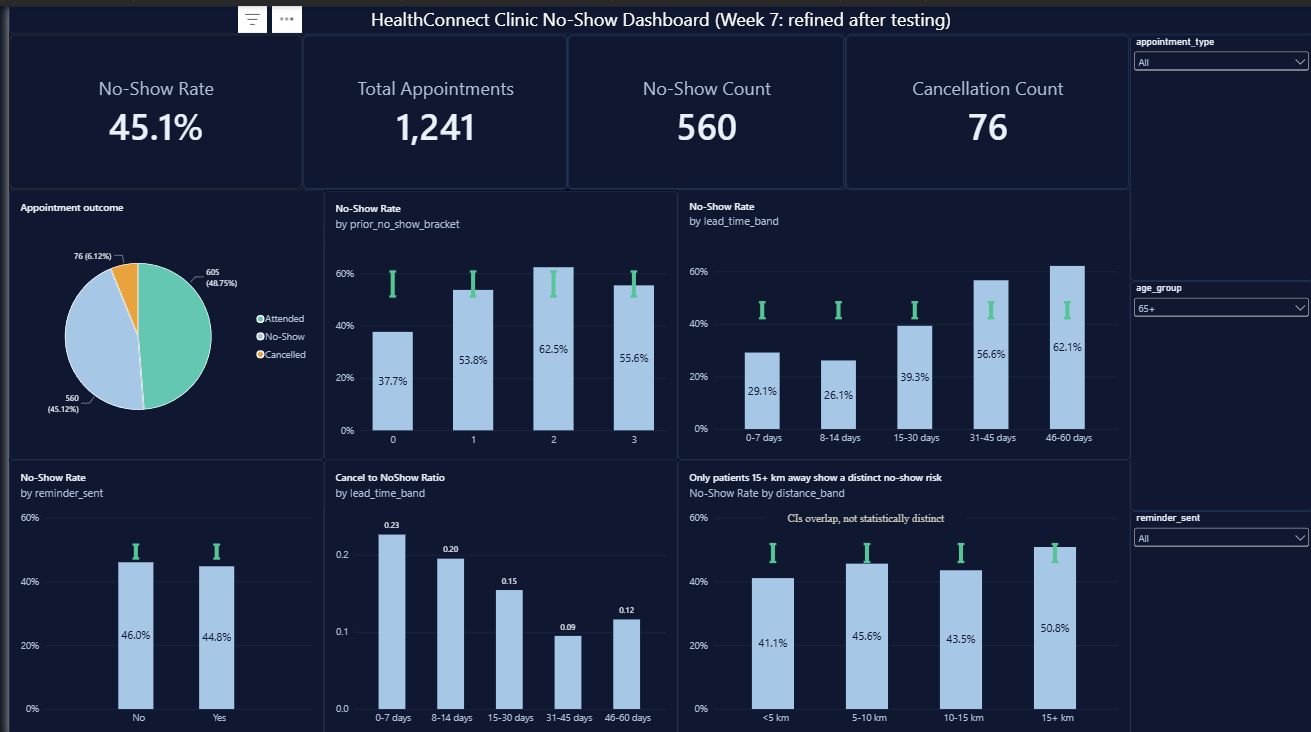

The page's visual inventory and layout, read from the dashboard file:
{"tool":"powerbi","page":{"name":"Page 1","canvas":[1920,1080],"ordinal":0},"visuals":[{"type":"pieChart","title":"Appointment outcome","fields":{"Category":["healthconnect_appointments_prepared.appointment_outcome"],"Y":["CountNonNull(healthconnect_appointments_prepared.appointment_id)"]},"box":[0,270.6,463.8,397.5],"z":0},{"type":"clusteredColumnChart","fields":{"Y":["healthconnect_appointments_prepared.No-Show Rate"],"Category":["healthconnect_appointments_prepared.prior_no_show_bracket"]},"box":[463.8,272.4,520.9,397.5],"z":1000},{"type":"clusteredColumnChart","title":"Only patients 15+ km away show a distinct no-show risk","fields":{"Y":["healthconnect_appointments_prepared.No-Show Rate"],"Category":["healthconnect_appointments_prepared.distance_band"]},"box":[984.7,668.1,666.3,412.3],"z":2000},{"type":"clusteredColumnChart","fields":{"Y":["healthconnect_appointments_prepared.No-Show Rate"],"Category":["healthconnect_appointments_prepared.reminder_sent"]},"box":[0,668.1,463.8,412.3],"z":3000},{"type":"clusteredColumnChart","fields":{"Category":["healthconnect_appointments_prepared.lead_time_band"],"Y":["healthconnect_appointments_prepared.No-Show Rate"]},"box":[984.7,268.7,666.3,399.4],"z":4000},{"type":"clusteredColumnChart","fields":{"Y":["healthconnect_appointments_prepared.Cancel to NoShow Ratio"],"Category":["healthconnect_appointments_prepared.lead_time_band"]},"box":[463.8,668.1,520.9,412.3],"z":5000},{"type":"textbox","box":[0,0,1920.4,41.7],"z":6000},{"type":"cardVisual","fields":{"Data":["healthconnect_appointments_prepared.No-Show Rate"]},"box":[0,42.3,432.5,228.2],"z":7000},{"type":"cardVisual","fields":{"Data":["healthconnect_appointments_prepared.Total Appointments"]},"box":[432.5,42.3,390.2,228.2],"z":8000},{"type":"cardVisual","fields":{"Data":["healthconnect_appointments_prepared.No-Show Count"]},"box":[822.7,42.3,408.6,228.2],"z":9000},{"type":"cardVisual","fields":{"Data":["healthconnect_appointments_prepared.Cancellation Count"]},"box":[1231.3,42.3,419.6,228.2],"z":10000},{"type":"textbox","box":[1113.5,743.6,296.3,35],"z":11000},{"type":"slicer","fields":{"Values":["healthconnect_appointments_prepared.appointment_type"]},"box":[1650.9,42.3,268.7,362.6],"z":11001},{"type":"slicer","fields":{"Values":["healthconnect_appointments_prepared.age_group"]},"box":[1650.9,404.9,268.7,338.7],"z":11002},{"type":"slicer","fields":{"Values":["healthconnect_appointments_prepared.reminder_sent"]},"box":[1650.9,743.6,268.7,336.8],"z":11003}]}

Visuals, with their boxes on the page's 1920x1080 design canvas (x1, y1, x2, y2). These are canvas units, not pixel positions in the 1311x732 screenshot, which may show the page scaled, cropped or inside an application window:
"Appointment outcome" pieChart: [0,271,464,668]
clusteredColumnChart - healthconnect_appointments_prepared.No-Show Rate x healthconnect_appointments_prepared.prior_no_show_bracket: [464,272,985,670]
"Only patients 15+ km away show a distinct no-show risk" clusteredColumnChart: [985,668,1651,1080]
clusteredColumnChart - healthconnect_appointments_prepared.No-Show Rate x healthconnect_appointments_prepared.reminder_sent: [0,668,464,1080]
clusteredColumnChart - healthconnect_appointments_prepared.lead_time_band x healthconnect_appointments_prepared.No-Show Rate: [985,269,1651,668]
clusteredColumnChart - healthconnect_appointments_prepared.Cancel to NoShow Ratio x healthconnect_appointments_prepared.lead_time_band: [464,668,985,1080]
textbox: [0,0,1920,42]
cardVisual - healthconnect_appointments_prepared.No-Show Rate: [0,42,432,270]
cardVisual - healthconnect_appointments_prepared.Total Appointments: [432,42,823,270]
cardVisual - healthconnect_appointments_prepared.No-Show Count: [823,42,1231,270]
cardVisual - healthconnect_appointments_prepared.Cancellation Count: [1231,42,1651,270]
textbox: [1114,744,1410,779]
slicer - healthconnect_appointments_prepared.appointment_type: [1651,42,1920,405]
slicer - healthconnect_appointments_prepared.age_group: [1651,405,1920,744]
slicer - healthconnect_appointments_prepared.reminder_sent: [1651,744,1920,1080]
